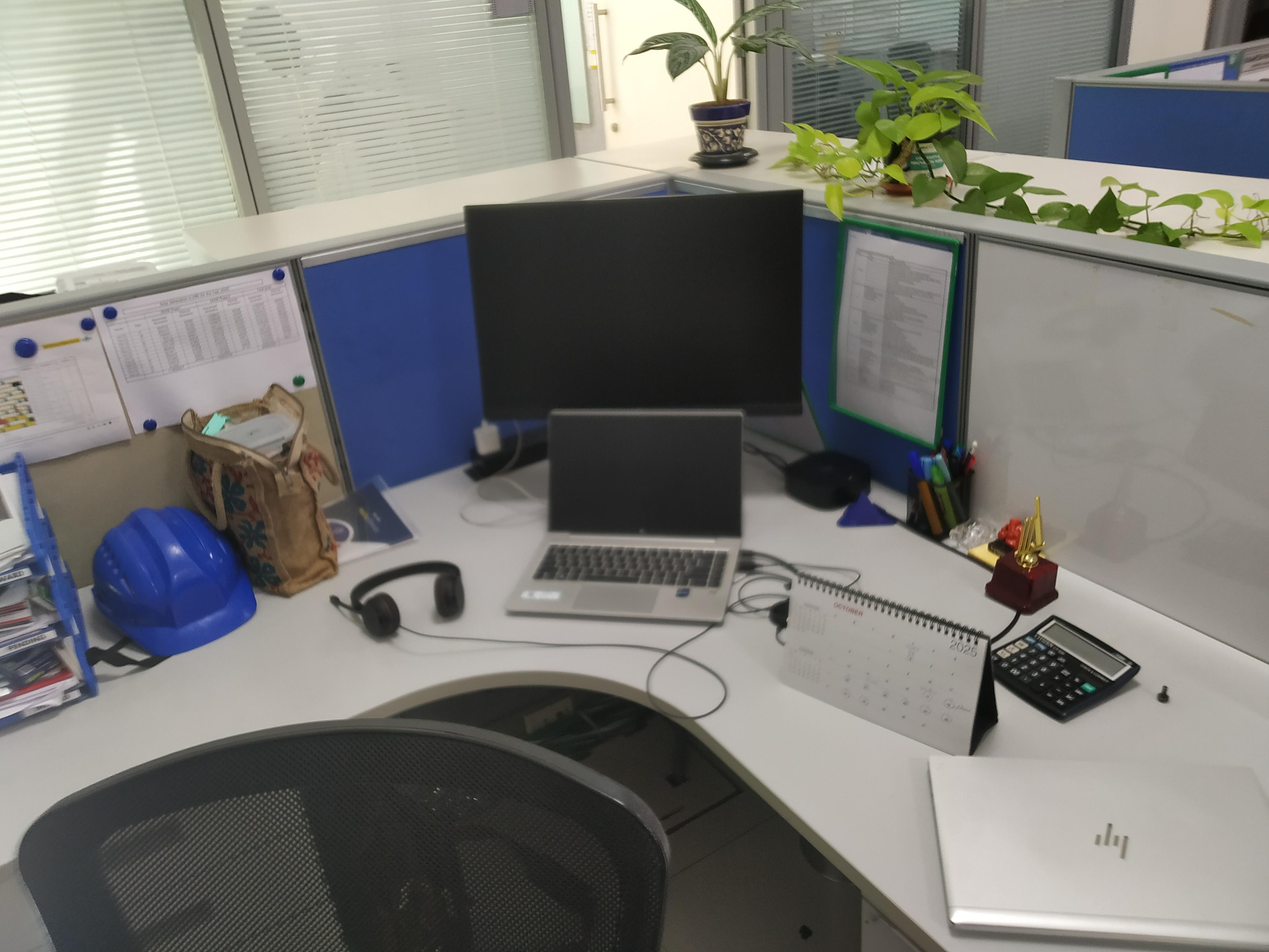calender: (771, 565, 1008, 763)
desktop: (459, 183, 811, 426)
laptop: (499, 406, 749, 630)
